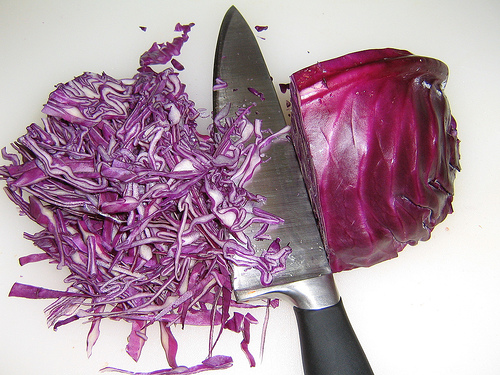cabbage: (278, 45, 464, 276)
